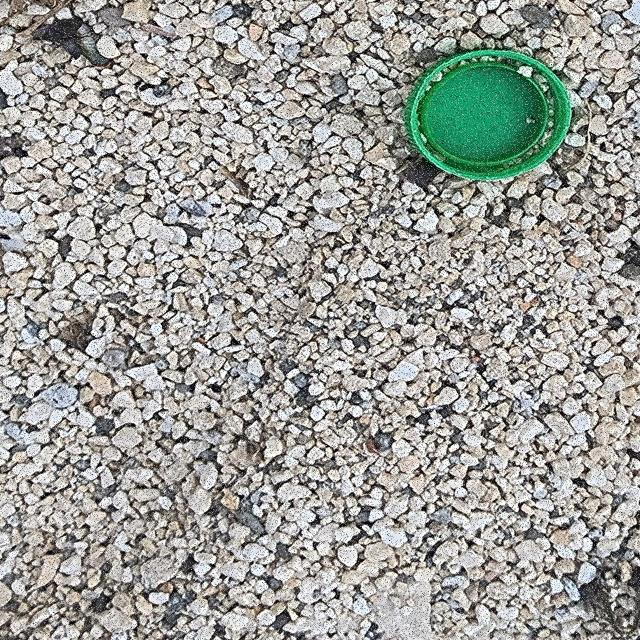plastic_waste: (402, 48, 574, 184)
